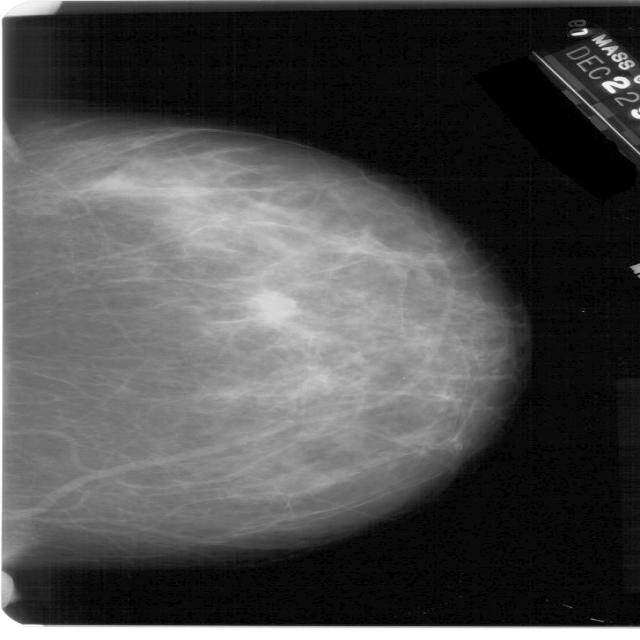tumour: (243, 288, 300, 327)
